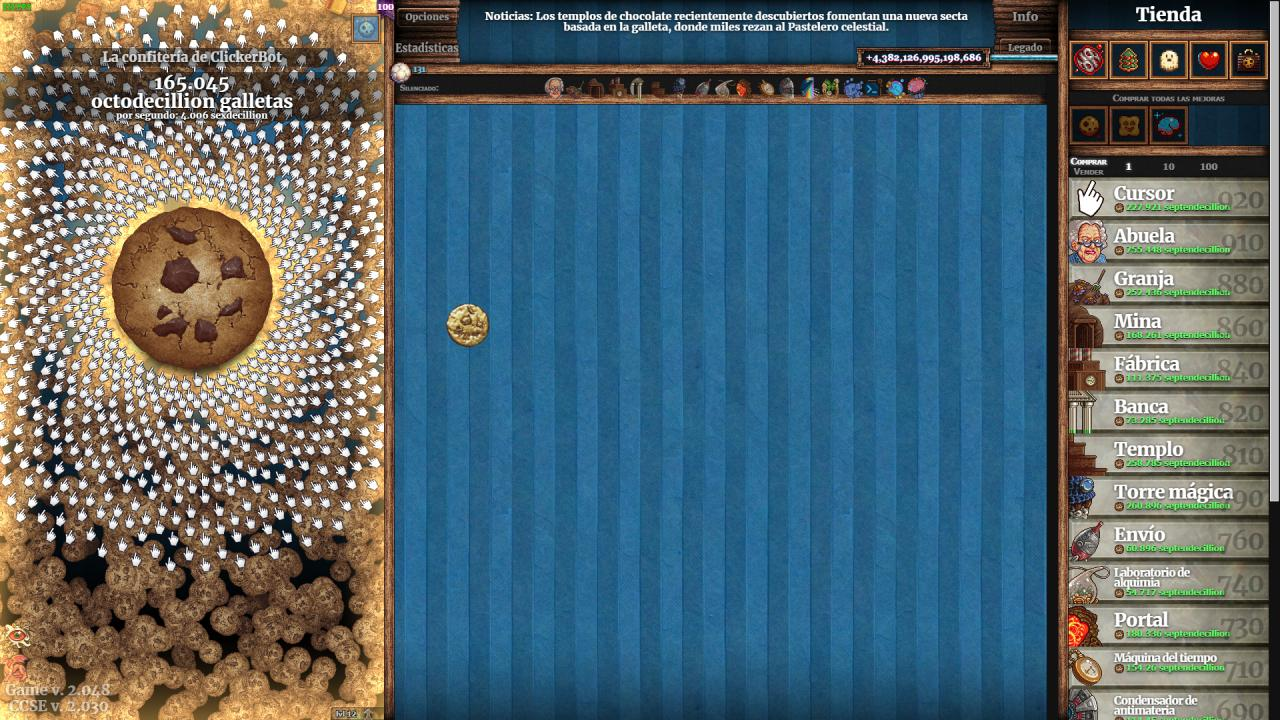GoldenCookie: (446, 302, 492, 349)
